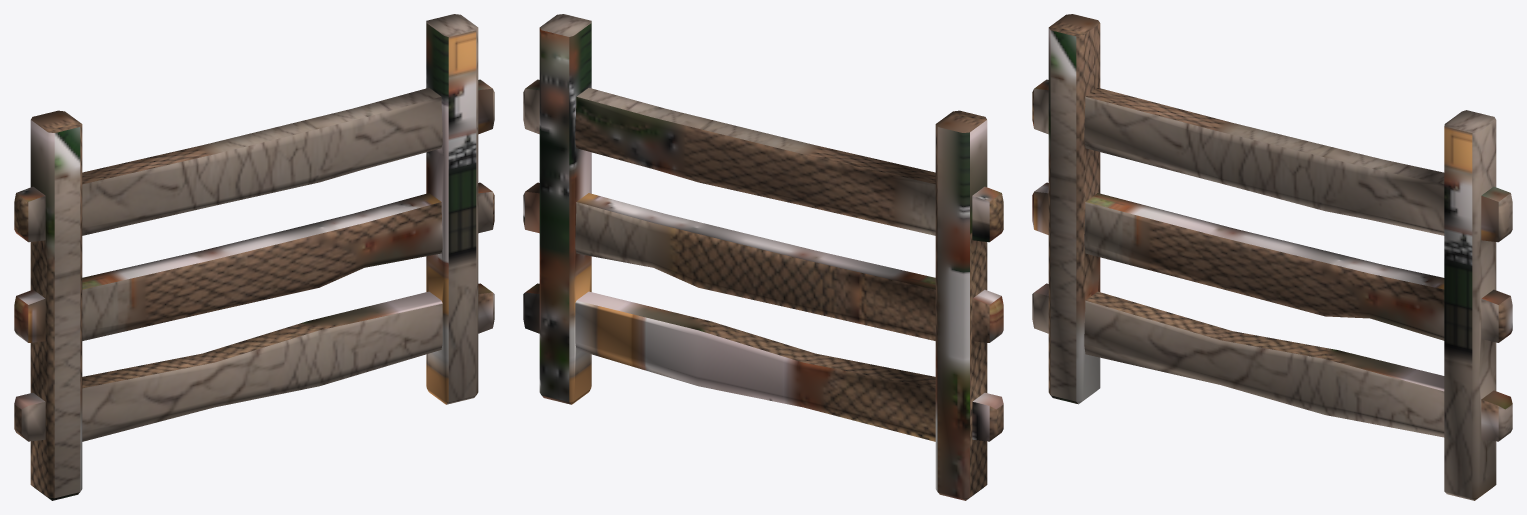
The model's file is Valla.fbx.
3 renders of one model, left to right at view 1: azimuth 30°, elevation 25°; view 2: azimuth 150°, elevation 25°; view 3: azimuth 330°, elevation 25°, orthographic.
Visible parts, largest first — view 1: mesh_rep_0_ori_repair; view 2: mesh_rep_0_ori_repair; view 3: mesh_rep_0_ori_repair.
Boxes of the visible parts, x1,y1,x2,y2 form: mesh_rep_0_ori_repair: (14, 14, 494, 500); mesh_rep_0_ori_repair: (523, 14, 1003, 500); mesh_rep_0_ori_repair: (1032, 14, 1512, 500).
Size of the model in its own units: 300 by 224 by 24.39.
